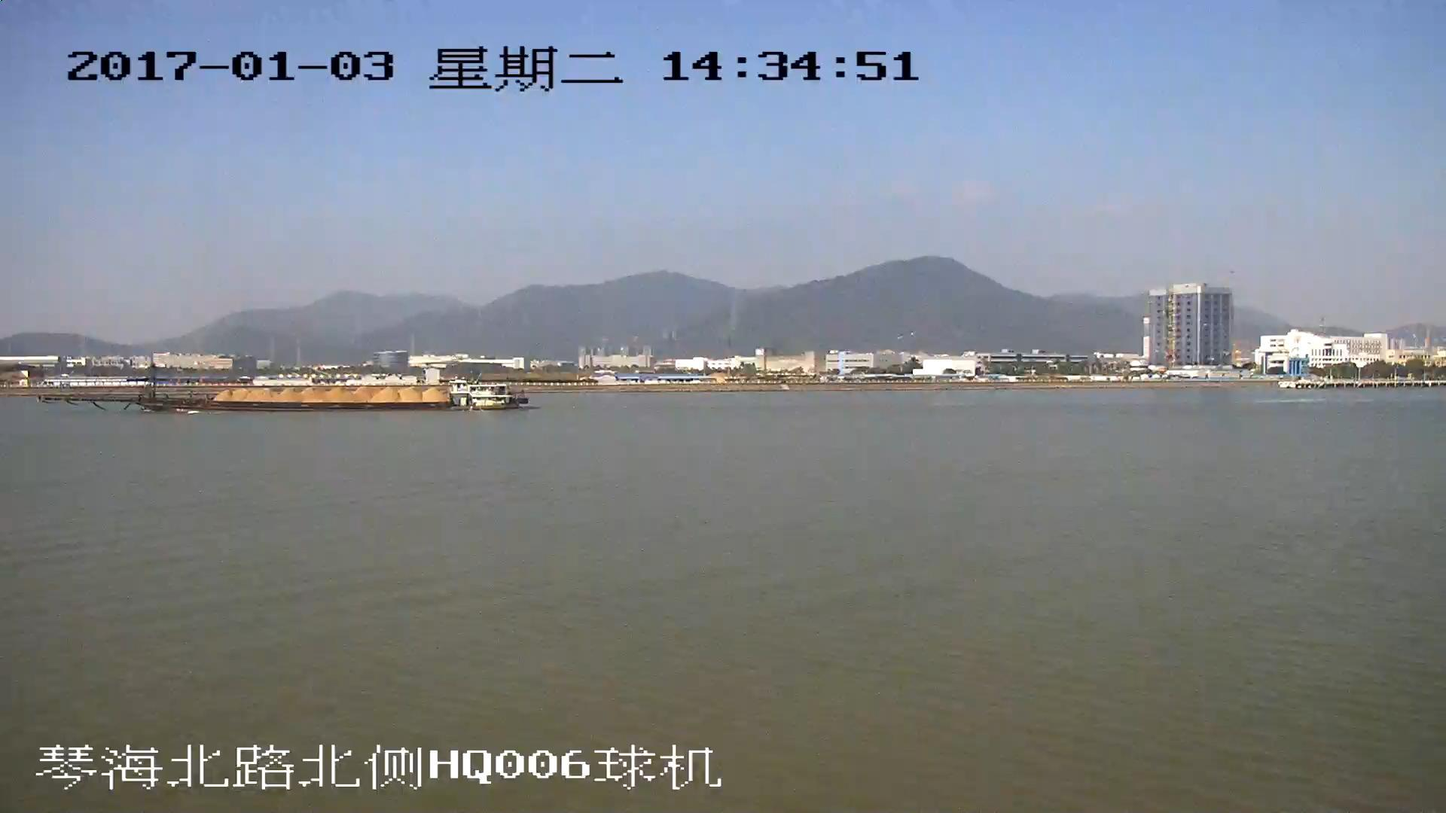ore carrier: (36, 367, 528, 413)
